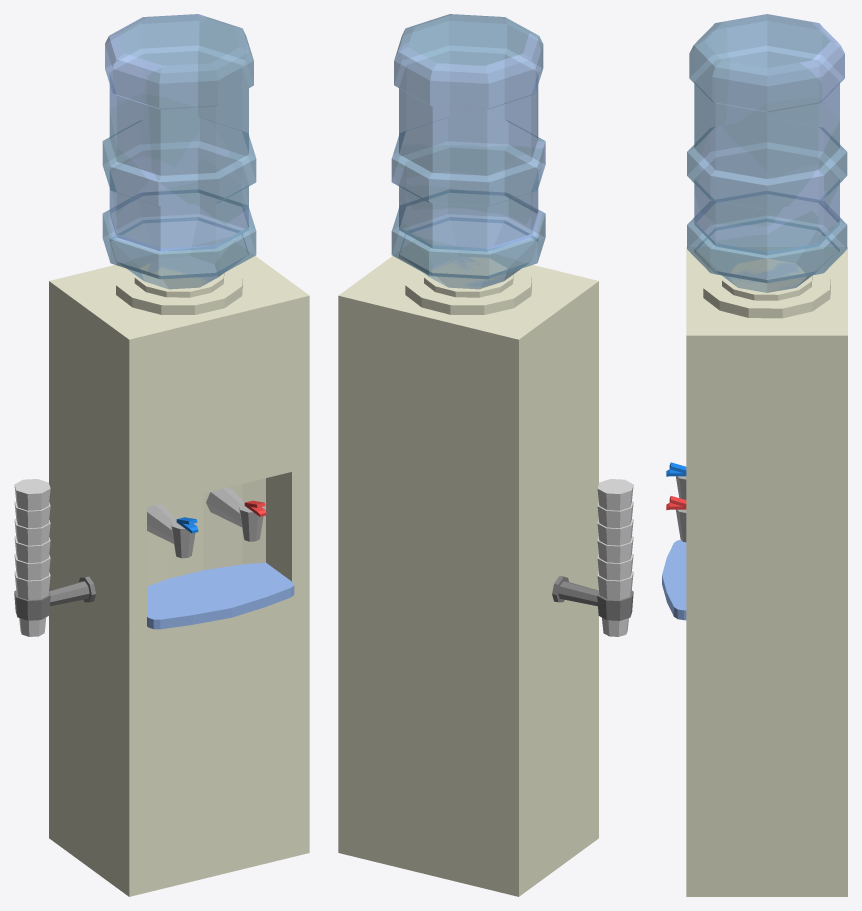
The model's file is Water_Dispenser_Blue&Bege.fbx.
3 views of the same model, side by side, from view 1: azimuth 30°, elevation 25°; view 2: azimuth 150°, elevation 25°; view 3: azimuth 270°, elevation 25° (orthographic).
Parts seen in each view (by area): view 1: Water_Dispenser; view 2: Water_Dispenser; view 3: Water_Dispenser.
Boxes of the visible parts, left/top/right/bottom form: Water_Dispenser: left=14, top=14, right=309, bottom=896; Water_Dispenser: left=338, top=14, right=633, bottom=896; Water_Dispenser: left=662, top=14, right=847, bottom=896.
Bounding box in the file's own units: 54.75 × 166 × 34.52.
